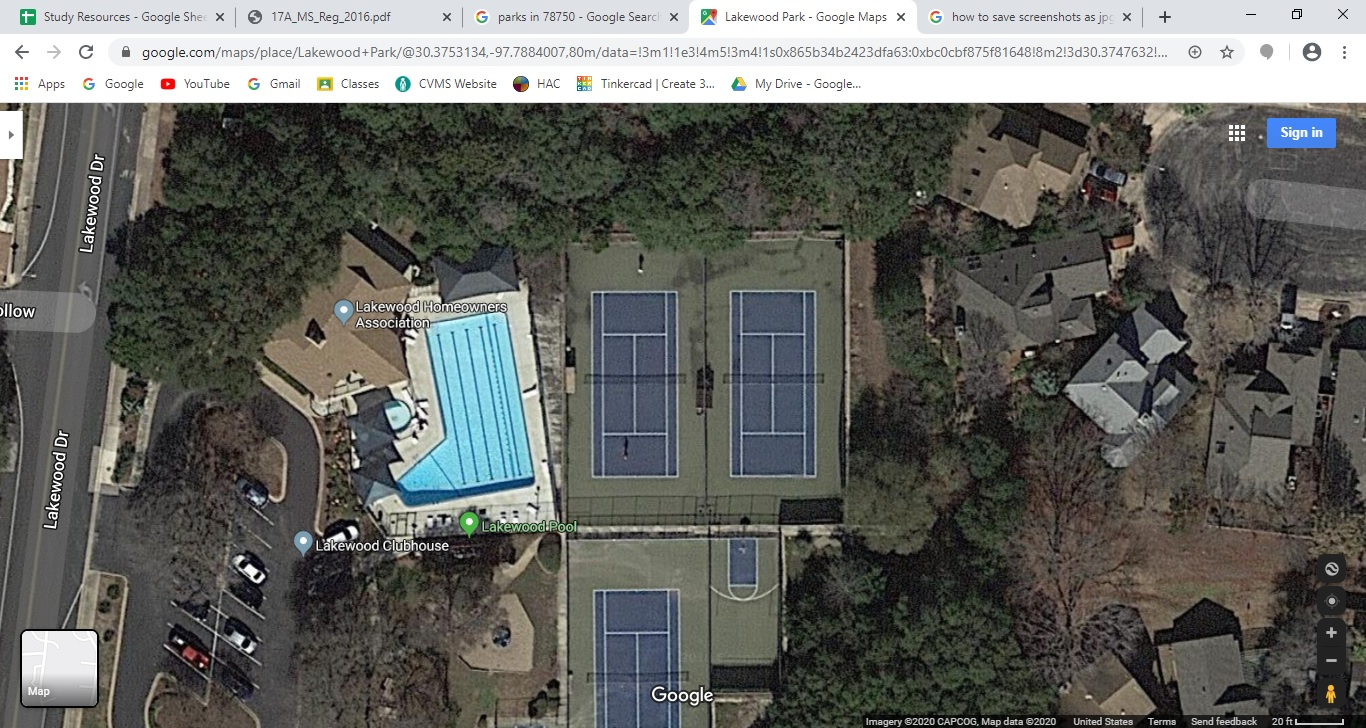pool: (408, 302, 548, 521)
tennis: (577, 272, 701, 514), (724, 275, 838, 494)
